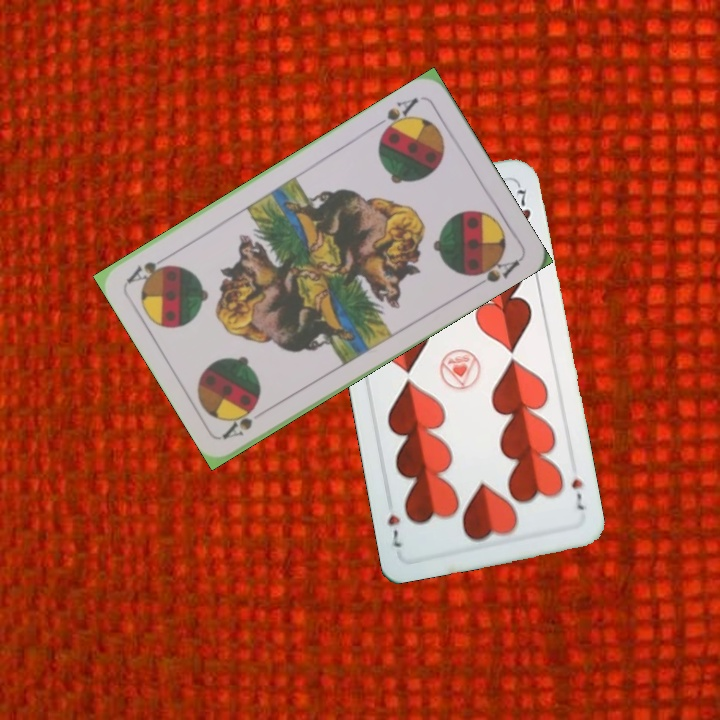H7: (567, 464, 587, 513)
SA: (376, 92, 421, 139), (219, 403, 273, 442)
